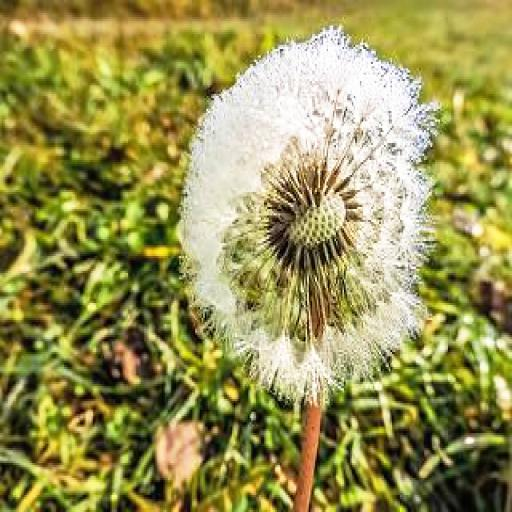dandelion: (180, 26, 438, 401)
